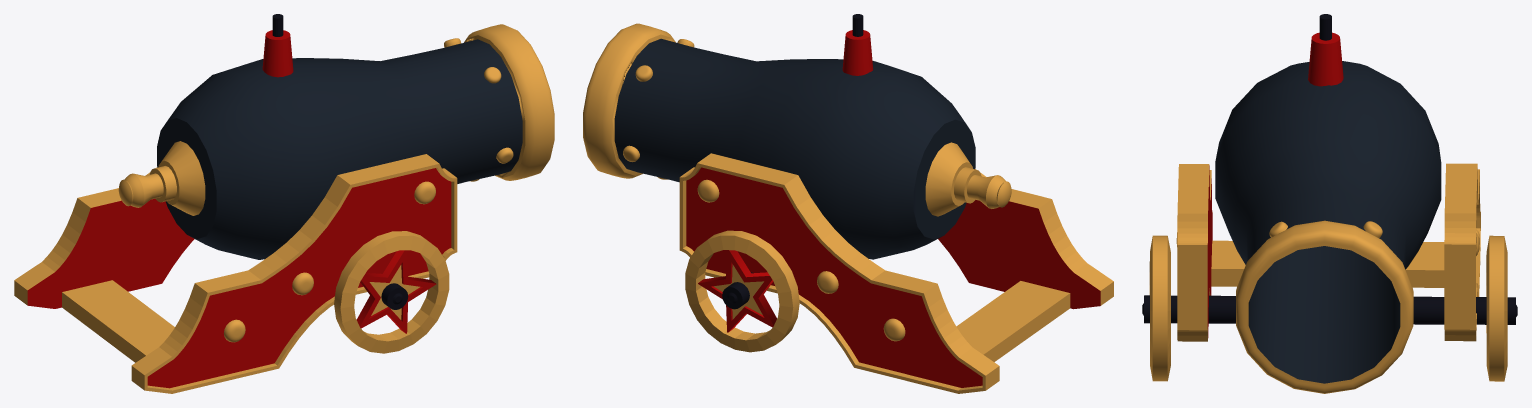
Rendered from F_Armata.fbx.
The picture shows the model from 3 angles, left to right: view 1: azimuth 30°, elevation 25°; view 2: azimuth 150°, elevation 25°; view 3: azimuth 270°, elevation 25°; orthographic projection. The views are drawn at different scales.
Visible parts, largest first — view 1: F_Armata_01; view 2: F_Armata_01; view 3: F_Armata_01.
Part boxes in pixels (x1,y1,x2,y2): F_Armata_01: [14, 14, 554, 393]; F_Armata_01: [583, 14, 1113, 393]; F_Armata_01: [1142, 14, 1517, 393].
Bounding box in the file's own units: 363 × 230 × 234.
